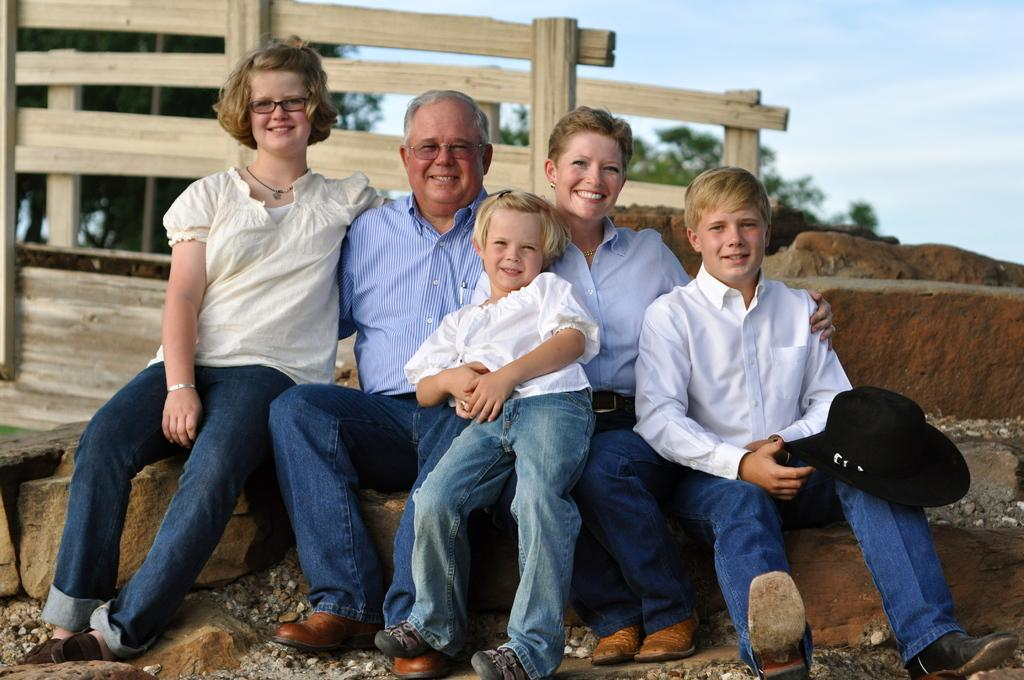Hat: (782, 386, 970, 507)
